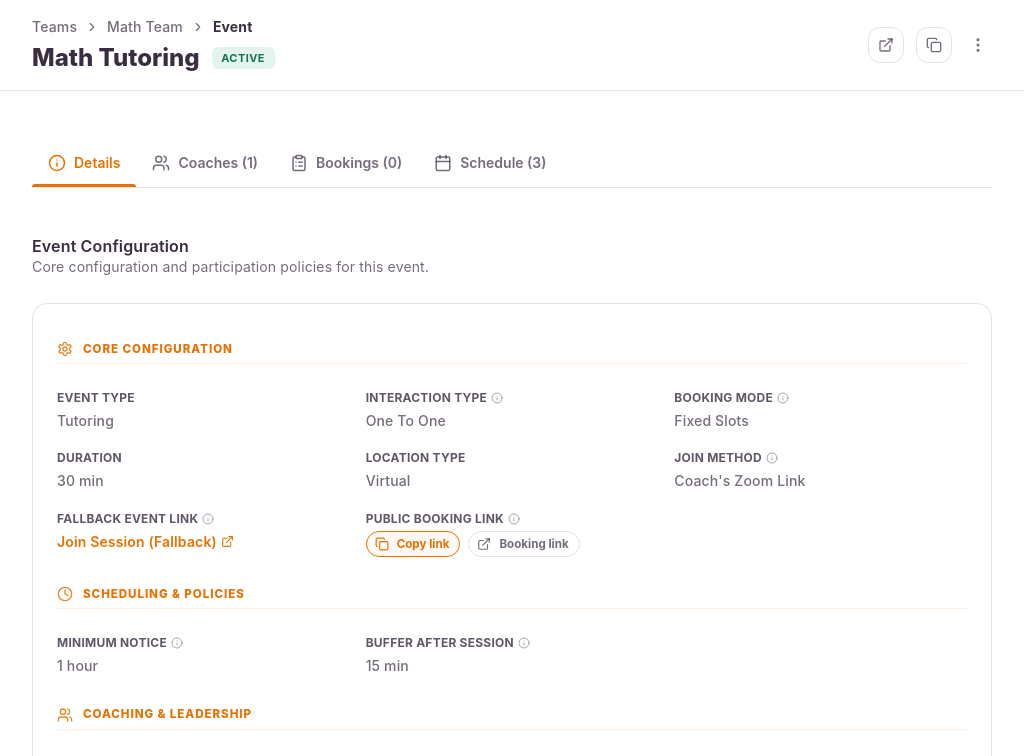
Test: Event Detail Integration › should render event details and allow tab switching
Expected: the heading "Math Tutoring" is shown, [32, 42, 200, 74]
Expected: the heading "Event Configuration" is shown, [32, 236, 189, 256]
# Switch to Coaches tab
Click the tab "Coaches (1)".
click(205, 163)  # box [136, 139, 274, 187]
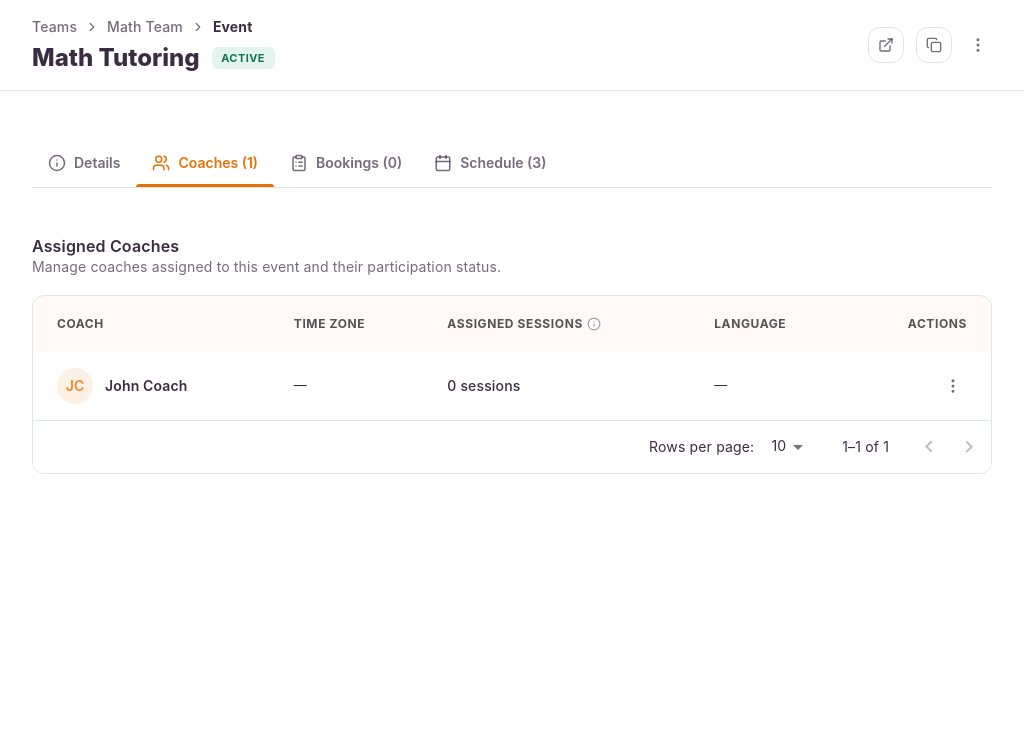
Expected: the text "John Coach" is shown, [105, 375, 188, 397]
Expected: the text "Assigned Sessions" is shown, [447, 312, 583, 336]
# Switch to Schedule tab
Click the tab "Schedule (3)".
click(490, 163)  # box [418, 139, 562, 187]
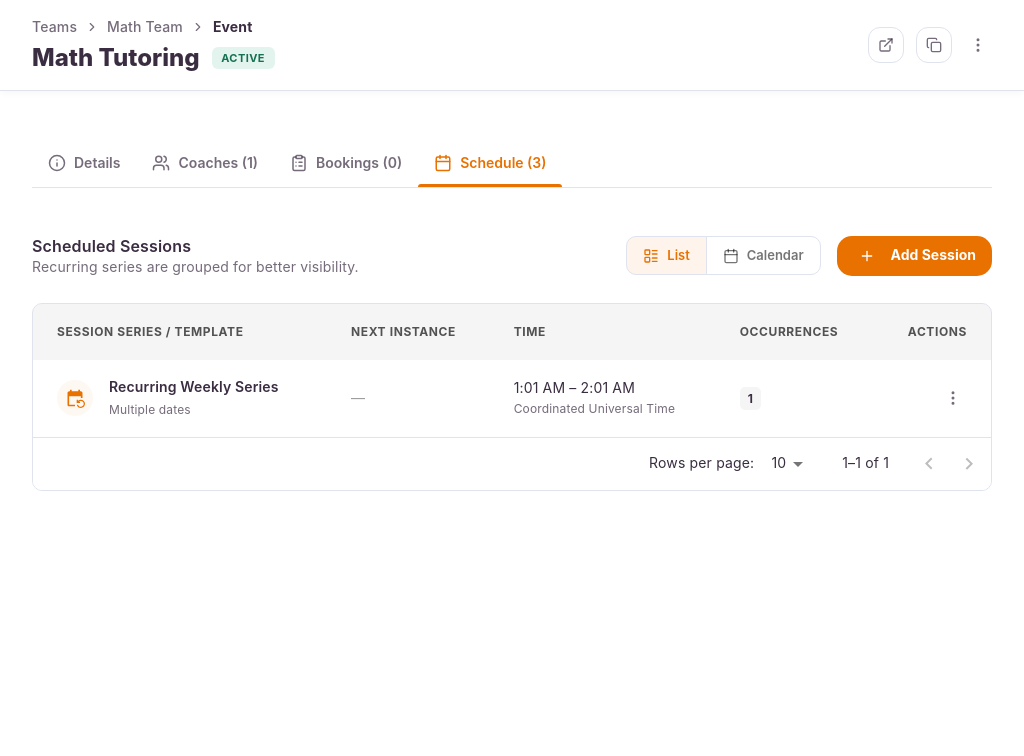
Expected: the heading "Scheduled Sessions" is shown, [32, 236, 191, 256]
# Navigate to Series Tracker
Click the text "Recurring Weekly Series".
click(194, 387)  # box [109, 376, 279, 398]
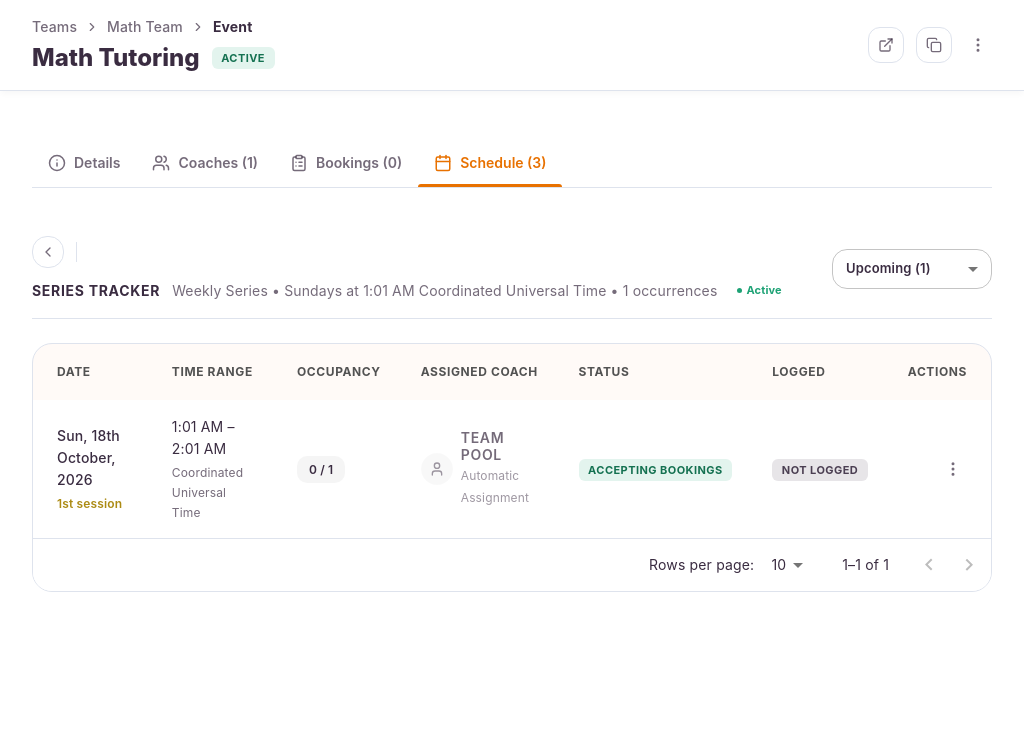
Expected: the heading "Series Tracker" is shown, [32, 280, 160, 302]
Expected: the dropdown labelled "Upcoming (1)" is shown
Press the mouse on the dropdown labelled "Upcoming (1)" at (888, 268), box [846, 260, 931, 276]
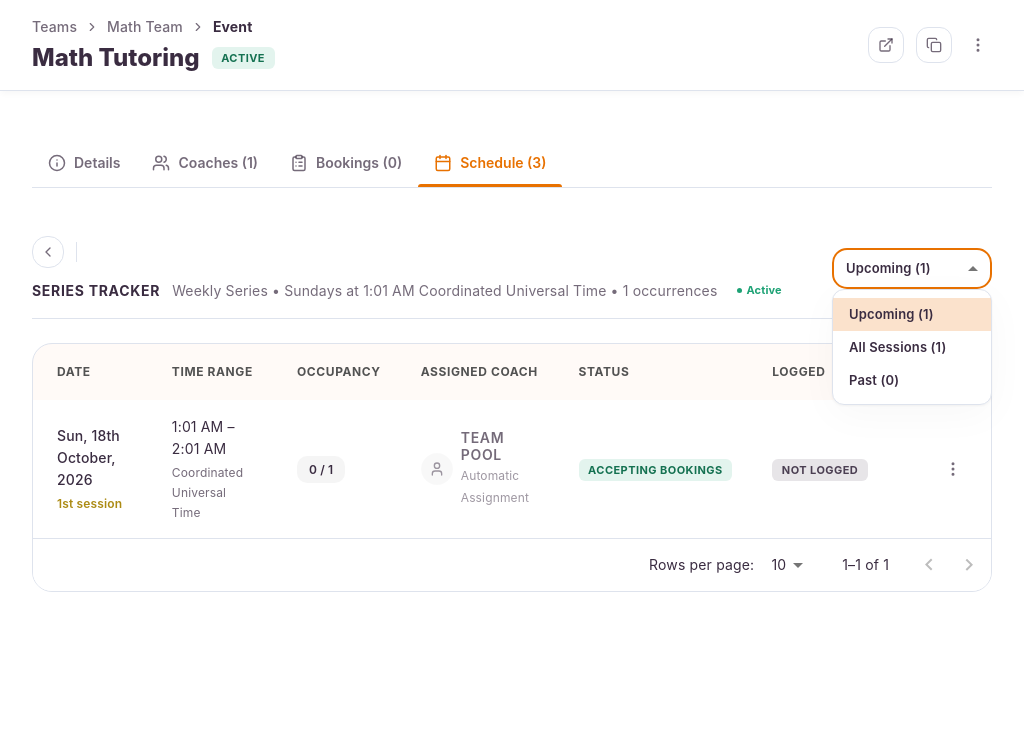
Expected: the option "Upcoming (1)" is shown, [833, 298, 991, 331]
Expected: the option "All Sessions (1)" is shown, [849, 339, 946, 355]
Expected: the option "Past (0)" is shown, [849, 372, 899, 388]
